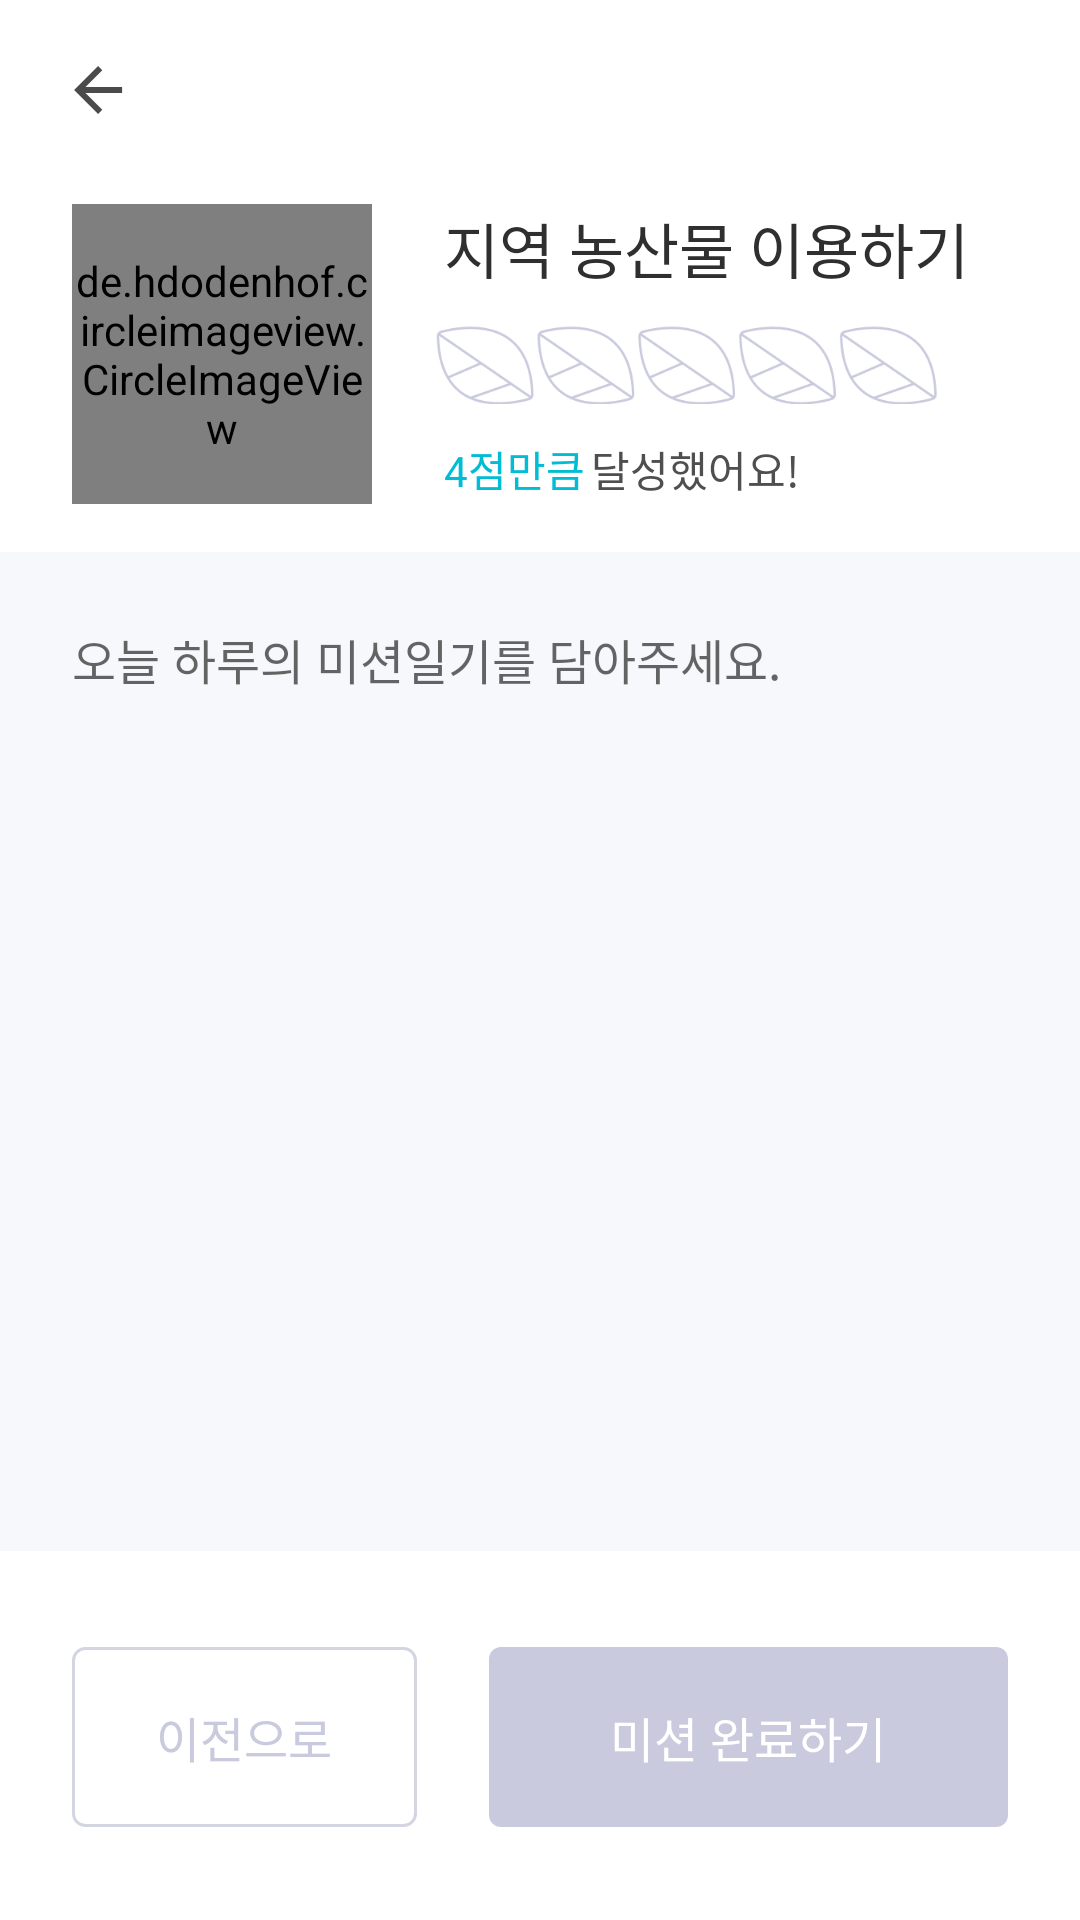

Point at icon controls on the screen. Image size 1080px x 1920px, points as (x=x, y=y).
back: (x=98, y=90)
